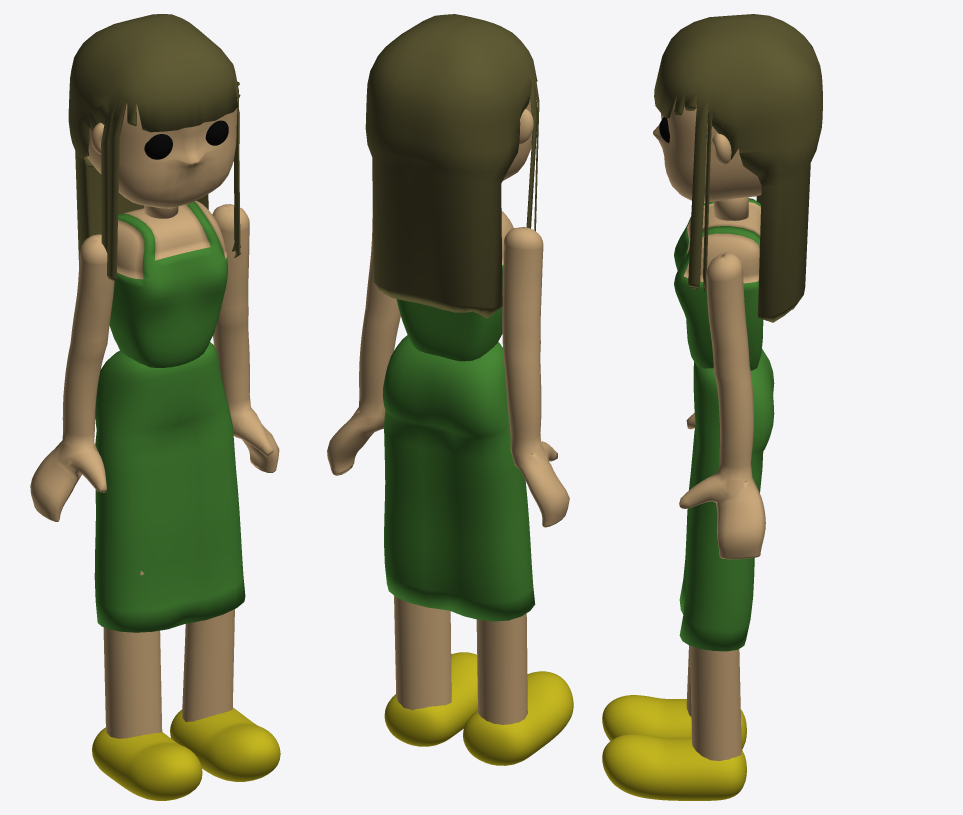
Rendered from FemaleNPCclothesgroupedtogether.fbx.
3 renders of one model, left to right at view 1: azimuth 30°, elevation 25°; view 2: azimuth 150°, elevation 25°; view 3: azimuth 270°, elevation 25°, orthographic. The views are drawn at different scales.
Parts seen in each view (by area): view 1: Cube.010, NurbsPath.010, Sphere.003, Sphere.001, BézierCurve.009, BézierCurve.008; view 2: Cube.010, Sphere.003, NurbsPath.010, BézierCurve.009, BézierCurve.008, Sphere.001; view 3: Sphere.003, NurbsPath.010, Cube.010, BézierCurve.008, Sphere.001, BézierCurve.009, Cylinder.001.
Boxes of the visible parts, x1,y1,x2,y2 form: Cube.010: (94,342,245,738); NurbsPath.010: (30,201,279,521); Sphere.003: (68,14,241,280); Sphere.001: (87,99,237,208); BézierCurve.009: (92,727,202,800); BézierCurve.008: (170,707,280,781); Cube.010: (382,335,535,724); Sphere.003: (365,14,539,318); NurbsPath.010: (327,210,569,527); BézierCurve.009: (463,671,573,765); BézierCurve.008: (384,652,477,746); Sphere.001: (503,99,533,180); Sphere.003: (654,14,822,322); NurbsPath.010: (674,198,765,559); Cube.010: (679,349,774,760); BézierCurve.008: (602,734,746,800); Sphere.001: (653,100,761,202); BézierCurve.009: (602,695,746,749); Cylinder.001: (713,197,748,220).
Size of the model in its own units: 294 by 873 by 366.
